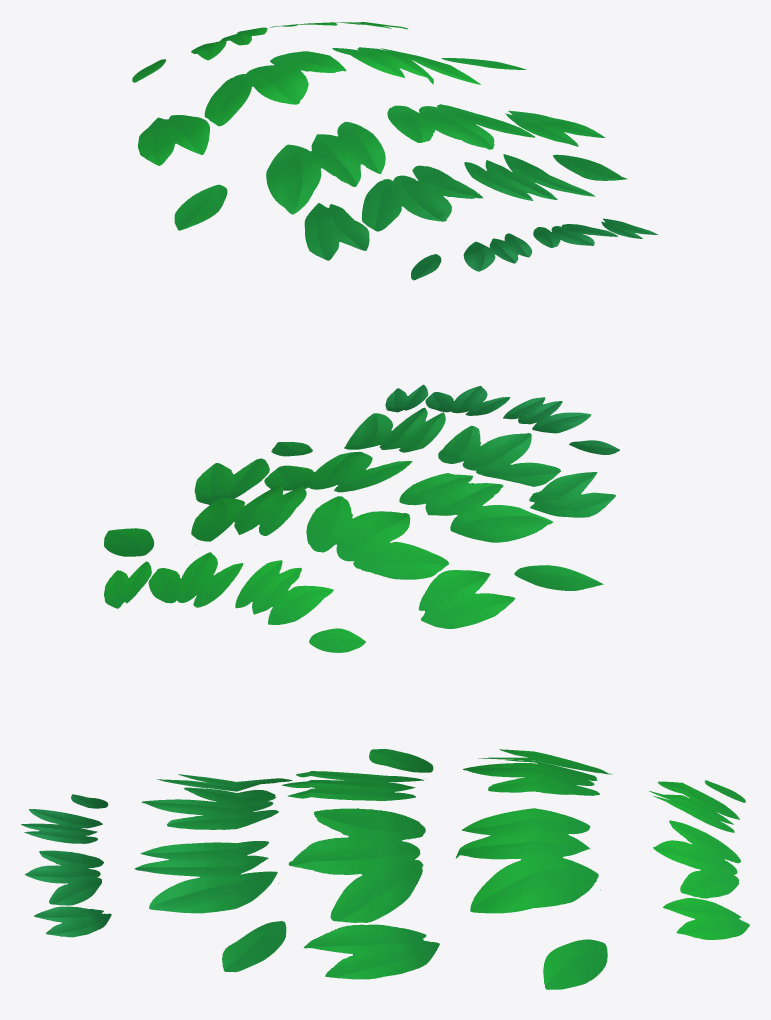
Rendered from M_végétation_2.FBX.
3 renders of one model, top to bottom at view 1: azimuth 30°, elevation 25°; view 2: azimuth 150°, elevation 25°; view 3: azimuth 270°, elevation 25°, orthographic. The views are drawn at different scales.
Visible parts, largest first — view 1: Plane195; view 2: Plane195; view 3: Plane195.
Boxes of the visible parts, <box> form: Plane195: <box>132,22,657,280</box>; Plane195: <box>104,384,619,652</box>; Plane195: <box>21,749,749,989</box>.
Bounding box in the file's own units: 410 × 72.34 × 514.
